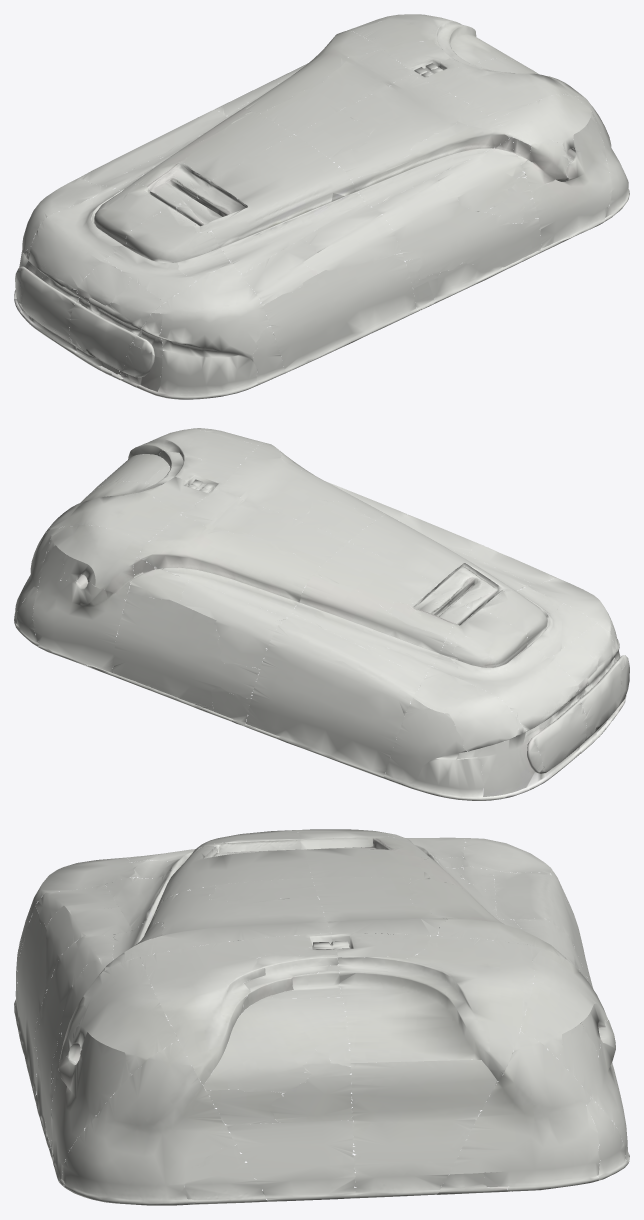
File: clip-audiolink.glb
The picture shows the model from 3 angles, top to bottom: view 1: azimuth 30°, elevation 25°; view 2: azimuth 150°, elevation 25°; view 3: azimuth 270°, elevation 25°; orthographic projection. The views are drawn at different scales.
Visible parts, largest first — view 1: tripo_node_5d5f4354-b0e9-4f90-b17c-2abcfb39638b; view 2: tripo_node_5d5f4354-b0e9-4f90-b17c-2abcfb39638b; view 3: tripo_node_5d5f4354-b0e9-4f90-b17c-2abcfb39638b.
Part boxes in pixels (x1,y1,x2,y2): tripo_node_5d5f4354-b0e9-4f90-b17c-2abcfb39638b: (14, 14, 629, 399); tripo_node_5d5f4354-b0e9-4f90-b17c-2abcfb39638b: (14, 428, 629, 800); tripo_node_5d5f4354-b0e9-4f90-b17c-2abcfb39638b: (14, 829, 629, 1205).
Bounding box in the file's own units: 0.9796 × 0.3531 × 0.6562.
1 material, 1 textured.
